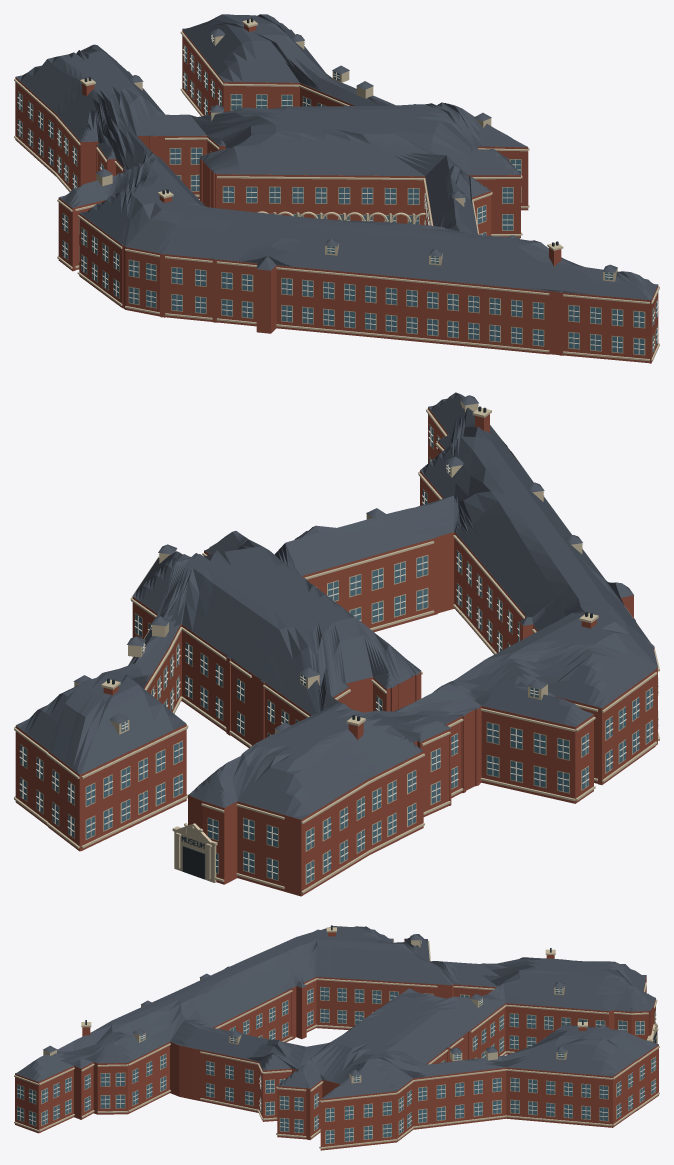
File: amsterdam-museum.glb
3 renders of one model, top to bottom at view 1: azimuth 30°, elevation 25°; view 2: azimuth 150°, elevation 25°; view 3: azimuth 270°, elevation 25°, orthographic. The views are drawn at different scales.
Parts seen in each view (by area): view 1: amsterdam-museum; view 2: amsterdam-museum; view 3: amsterdam-museum.
Boxes of the visible parts, <box> form: amsterdam-museum: <box>14,14,659,363</box>; amsterdam-museum: <box>14,392,659,896</box>; amsterdam-museum: <box>14,925,659,1150</box>.
Bounding box in the file's own units: 71.73 × 17.15 × 121.
